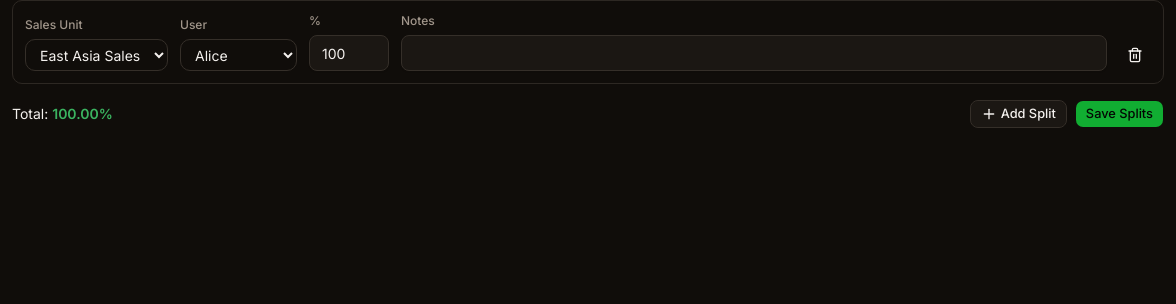
Test: OpportunitySplitsEditor — unit-less row guard (ORR-812) › blocks save when a row has a percentage but no sales unit
Note: Add a second row and give it a percentage but leave its sales unit blank.
Click the button "Add Split": {"x": 1018, "y": 114} [970,100,1067,128]
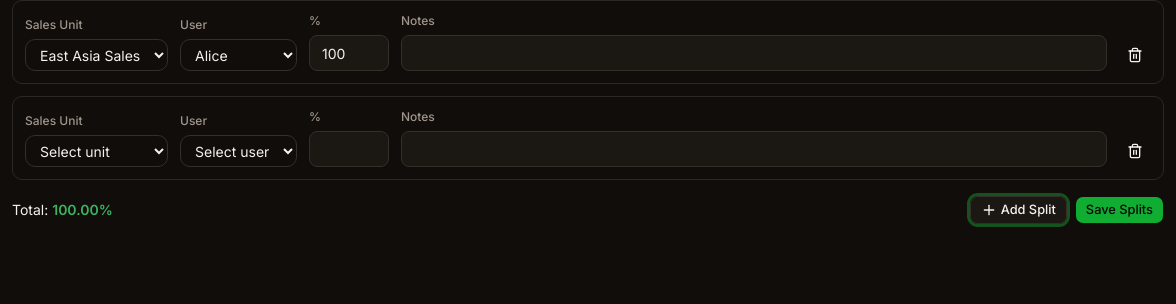
In the 2nd number field: {"x": 349, "y": 149} [309,131,389,167], type "20"
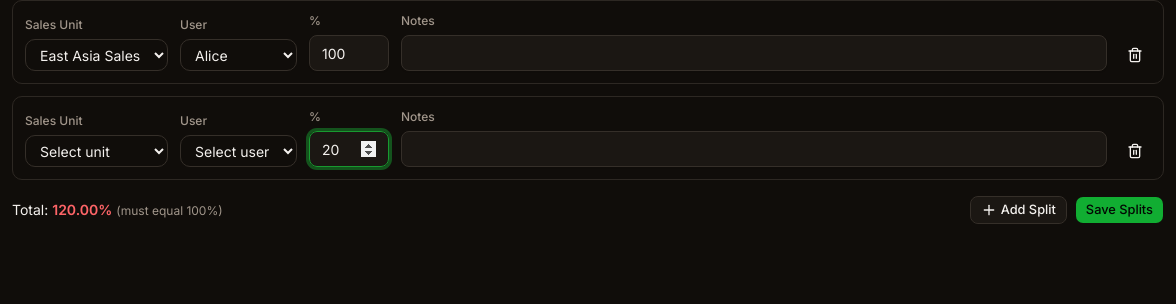
Click the button "Save Splits": {"x": 1119, "y": 210} [1075,196,1164,224]
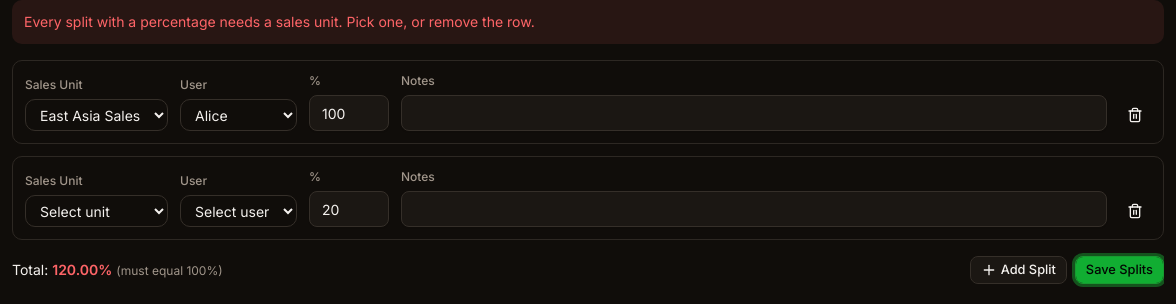
Result: the text "Every split with a percentage needs a sales unit" is shown at [24,13,535,30]
